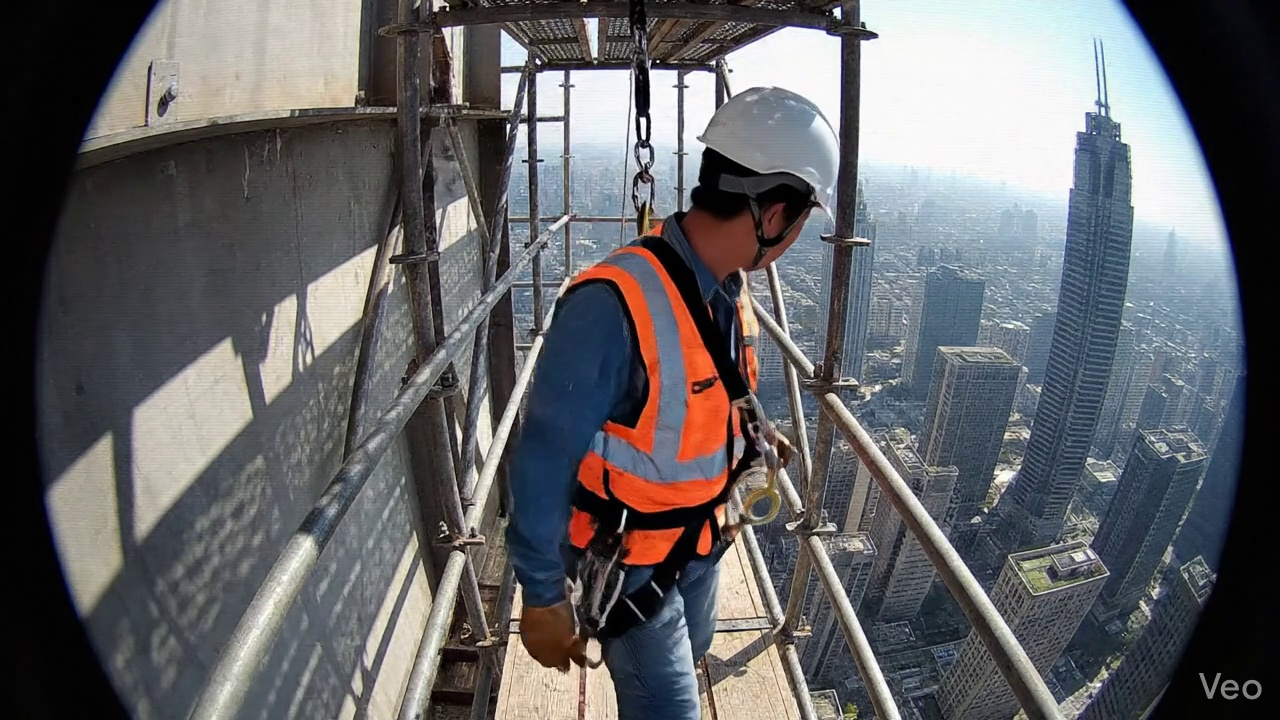person: (508, 87, 837, 719)
